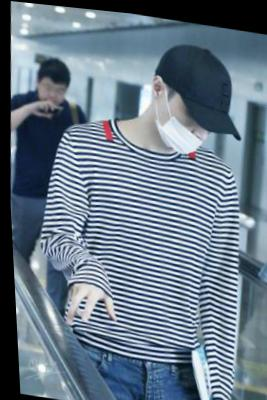NONE: (40, 80, 66, 108)
WRONG: (158, 91, 214, 155)
